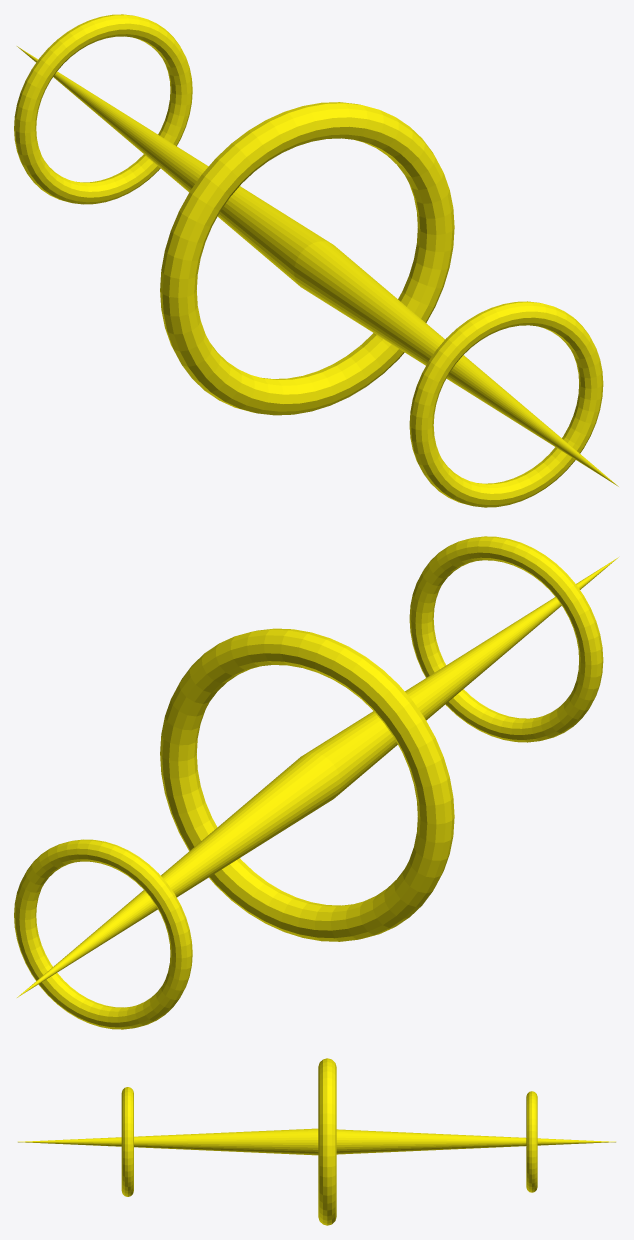
The model's file is ULT.obj.
The picture shows the model from 3 angles, top to bottom: view 1: azimuth 30°, elevation 25°; view 2: azimuth 150°, elevation 25°; view 3: azimuth 270°, elevation 25°; orthographic projection. The views are drawn at different scales.
Visible parts, largest first — view 1: 円柱; view 2: 円柱; view 3: 円柱.
Part boxes in pixels (box(x1,y1,x2,y2)): 円柱: box(14, 14, 618, 507); 円柱: box(14, 536, 618, 1029); 円柱: box(18, 1058, 615, 1225).
Bounding box in the file's own units: 1.91 × 1.91 × 6.9.
Materials: 4 (4 with a texture image).
